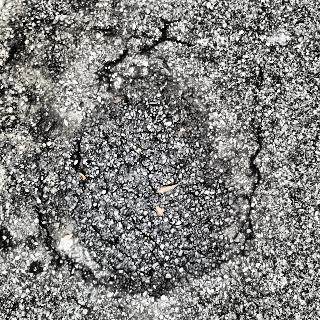crack: (94, 17, 194, 79), (231, 123, 266, 246), (32, 176, 64, 263), (64, 131, 90, 185)
